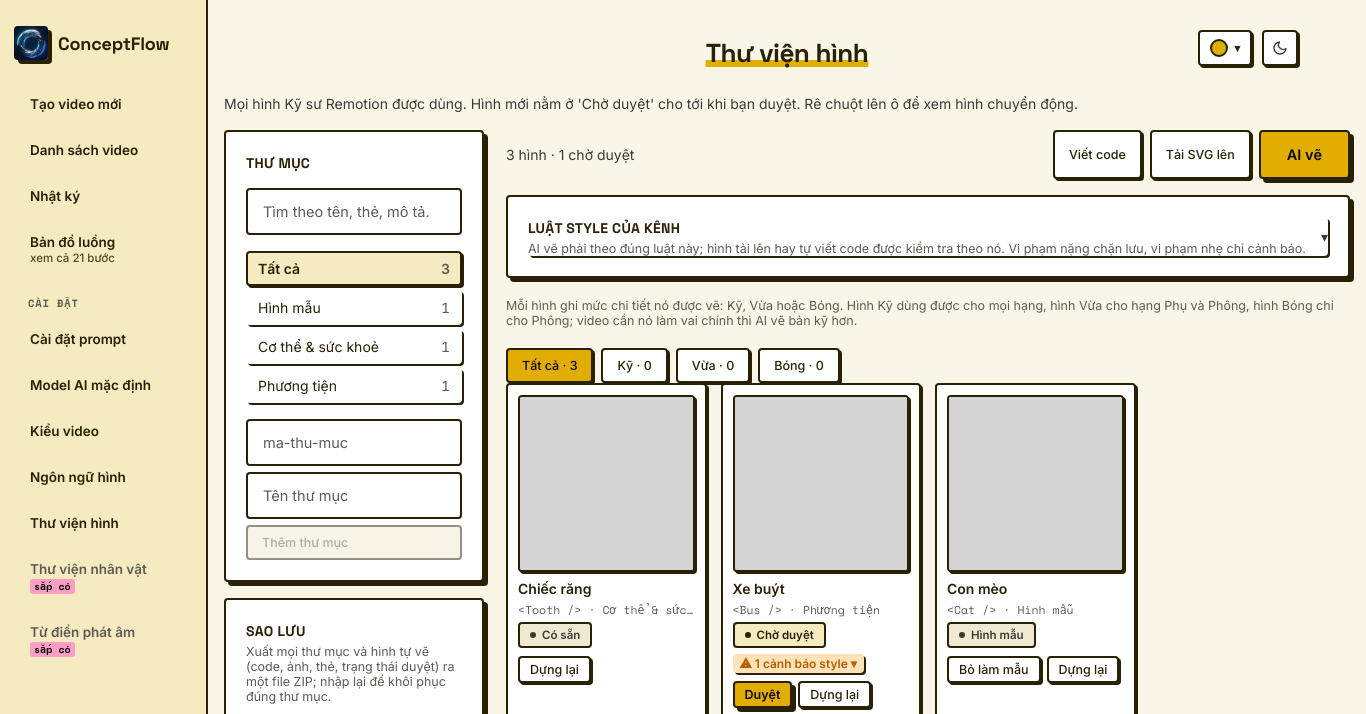
IllustrationLibraryPage › shows the style rules with the exemplar drawings
Click the button with test id "illustration-style-toggle".
click(604, 228)  # box left=528, top=217, right=1328, bottom=256
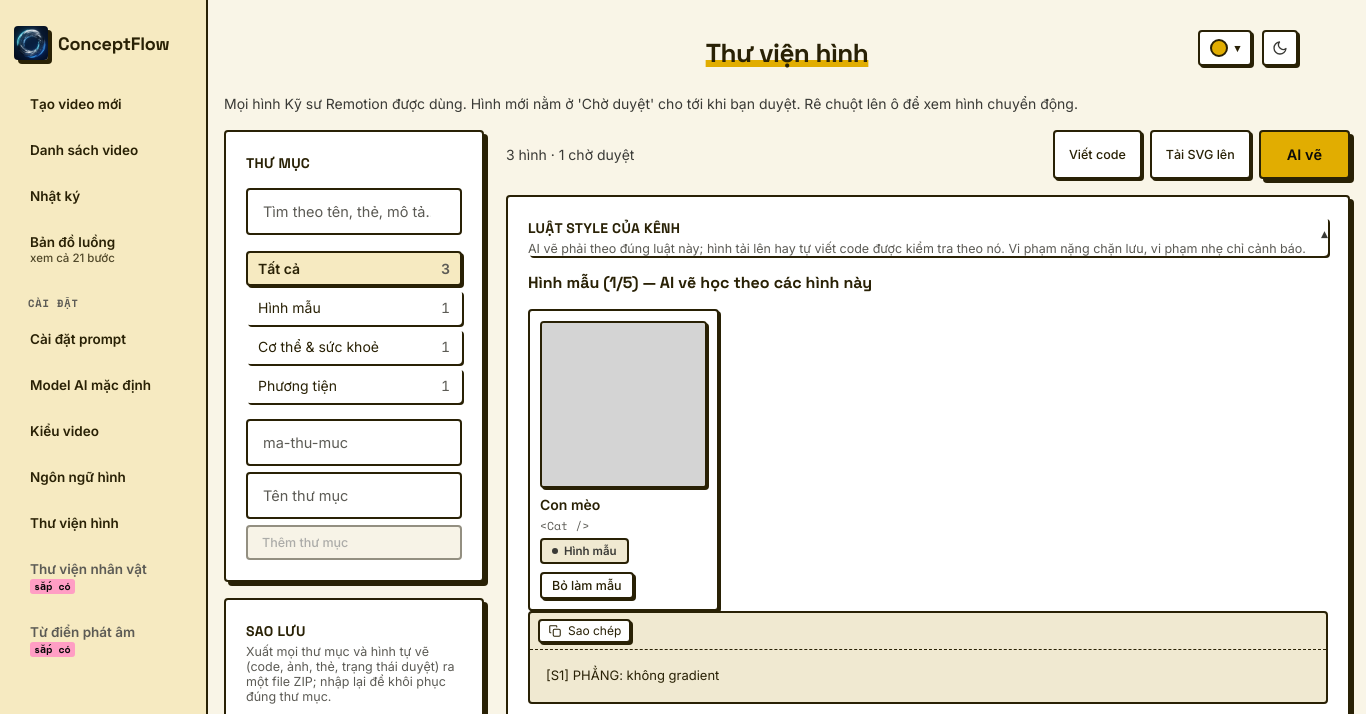
Result: the text with test id "illustration-style-rules" shows "[S1] PHẲNG" at left=546, top=667, right=719, bottom=683
Result: the list item with test id "illustration-tile-Cat" shows "Hình mẫu" at left=564, top=544, right=617, bottom=558
